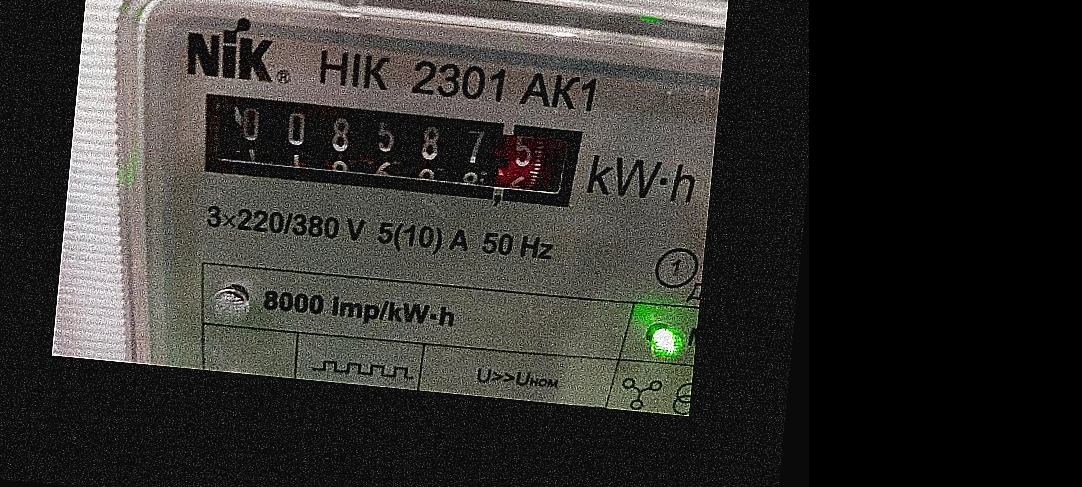0: (281, 106, 309, 148)
1: (235, 102, 263, 145)
5: (509, 129, 537, 171), (372, 116, 399, 156)
7: (460, 125, 487, 168)
8: (325, 112, 354, 155), (416, 121, 441, 164)
screen: (176, 72, 603, 230)
